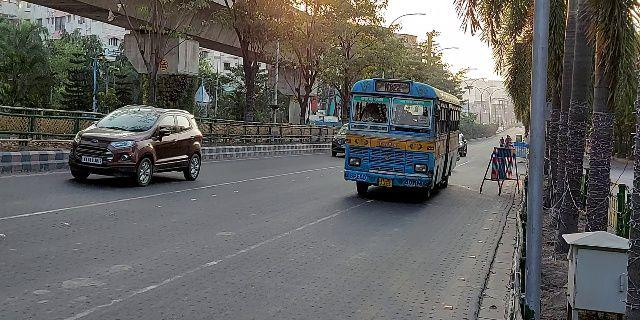Bus: (342, 74, 460, 202)
Car: (66, 102, 204, 186)
